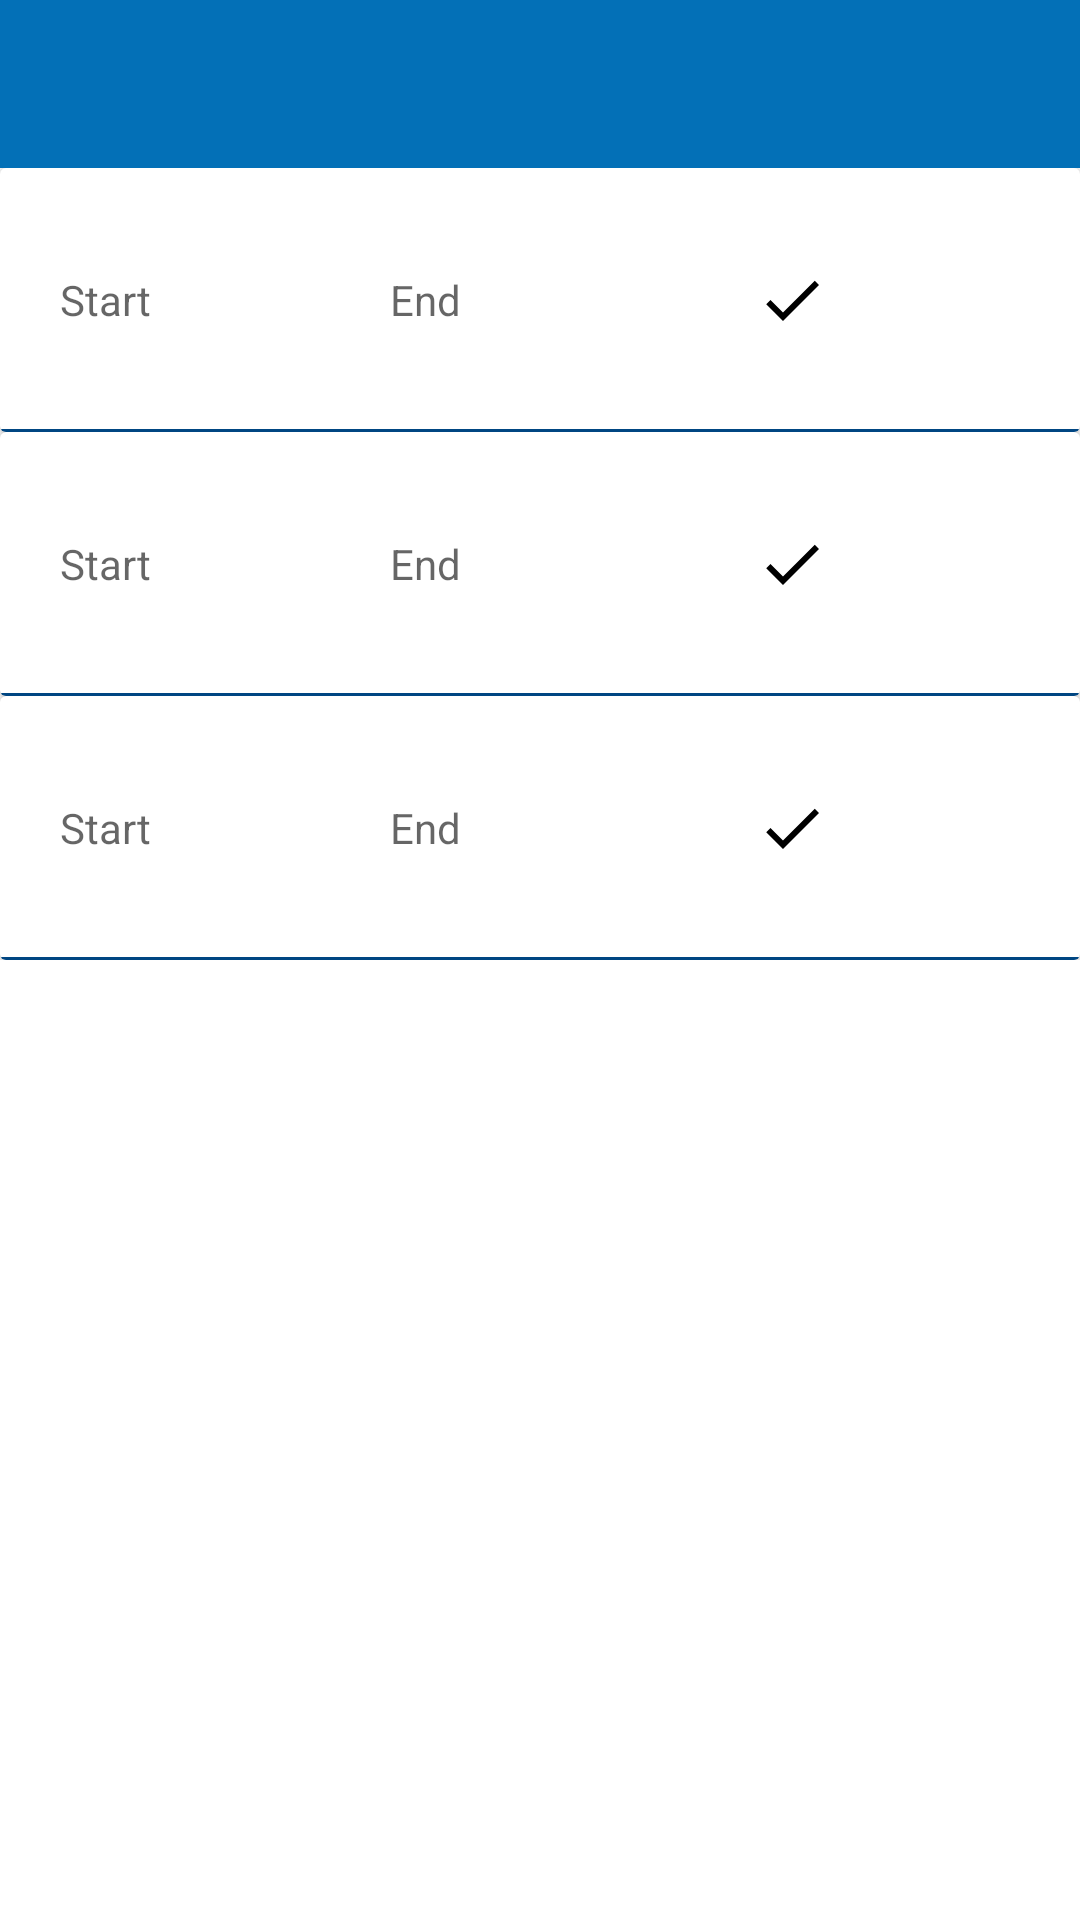

Icon bounding boxes for this 1080x1920 phone screenshot, format (x1, y1, x2, y2):
check: (766, 281, 819, 321), (766, 545, 819, 585), (766, 809, 819, 849)
